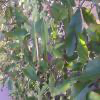Cherry leaf: (64, 6, 85, 66), (51, 74, 83, 98), (76, 26, 91, 72), (39, 18, 53, 65), (20, 62, 41, 84), (0, 28, 31, 42), (4, 60, 17, 77), (7, 51, 23, 63), (9, 41, 22, 53)
